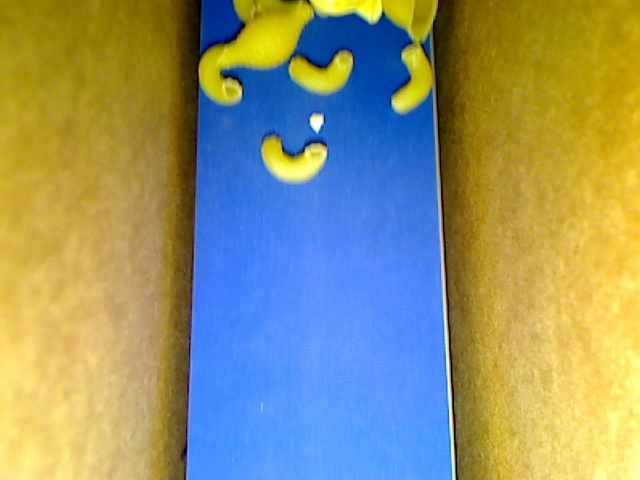elbow: (260, 133, 328, 184), (390, 42, 433, 114), (288, 49, 353, 96), (198, 44, 243, 105), (230, 1, 260, 24)
shell: (216, 7, 309, 68), (381, 1, 439, 40)
